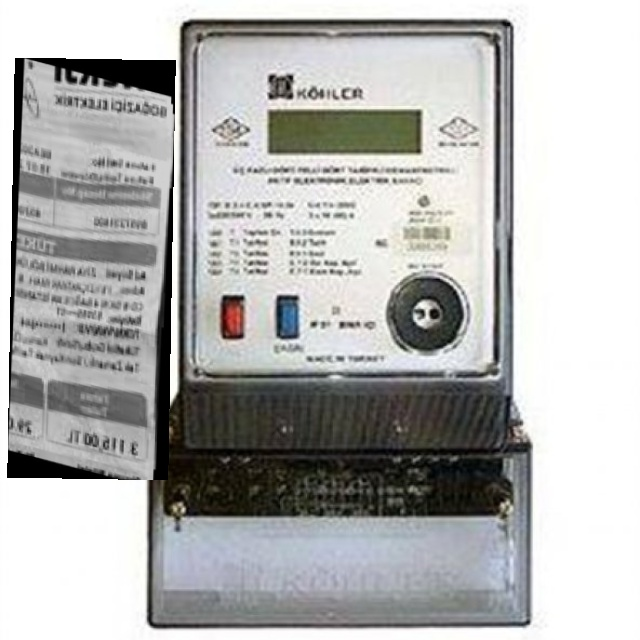electricity-bill: (6, 57, 175, 479)
